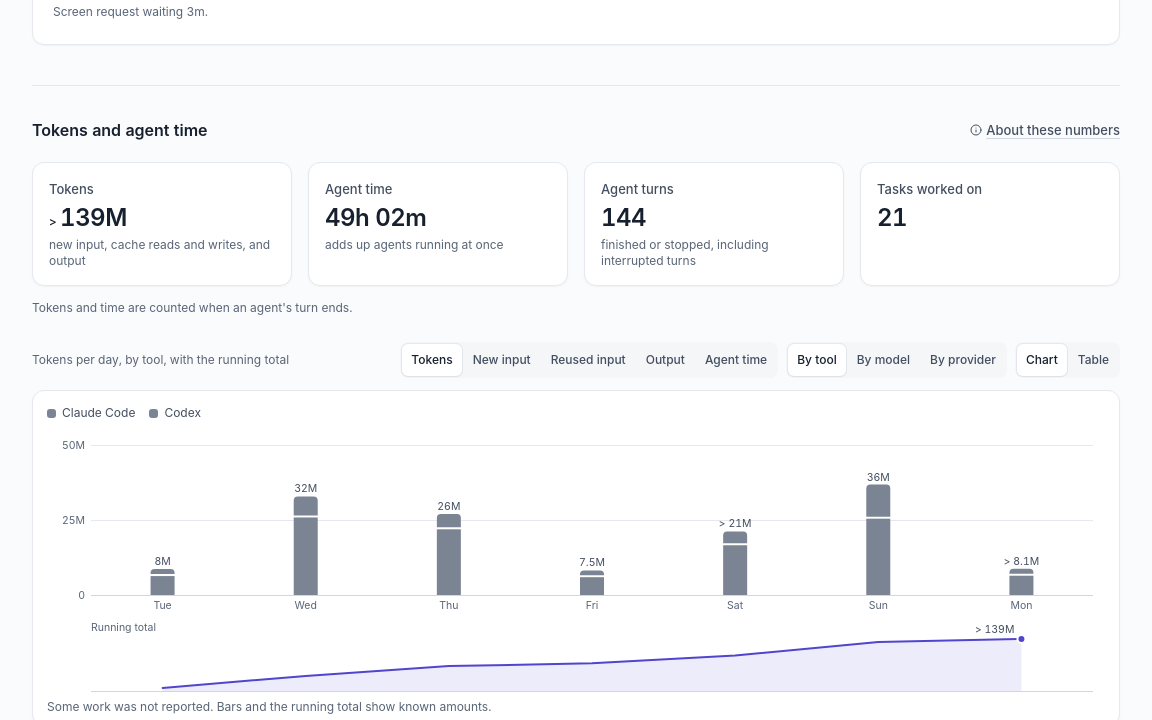
Test: the Analytics charts › switches the split to models and providers, and the measure to a part of the tokens or agent time
(page scrolled)
What coordinates should you click on to do the following:
click the tab "By model"
I would click on:
 (883, 360)
Its box is [848,344,919,376].
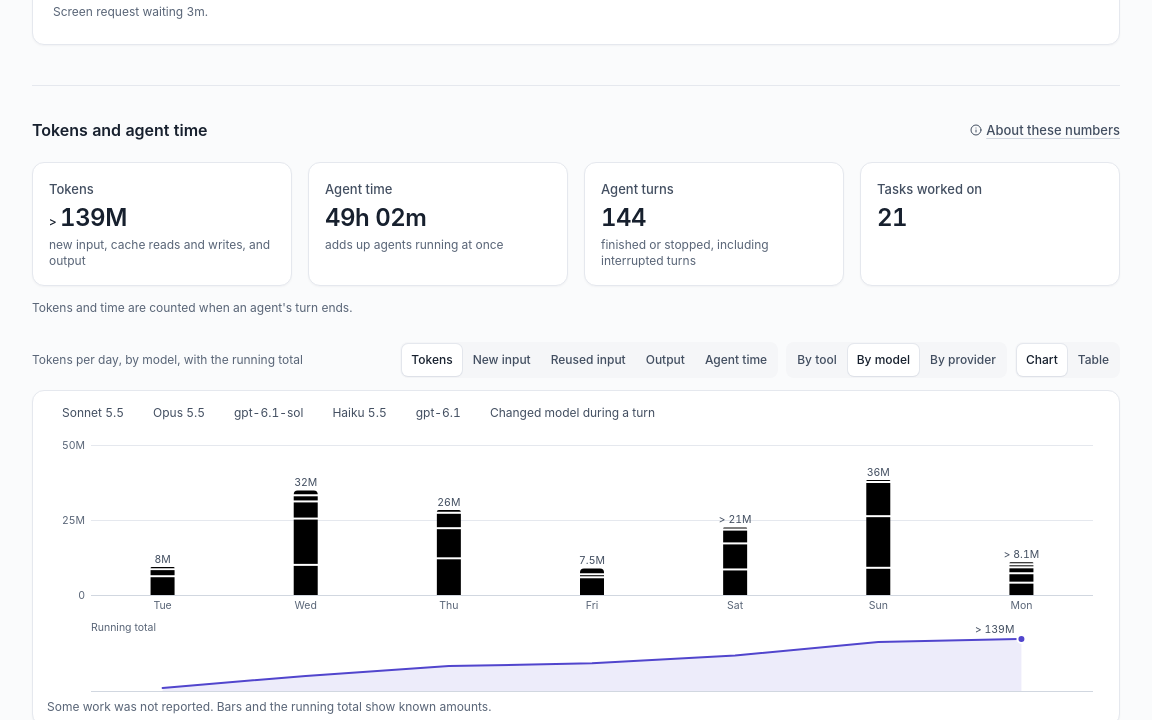
expect the element showing "Opus 5.5" is shown: met, box [153,405,205,420]
expect the element with class "legend" is shown: met, box [62,405,655,420]
What coordinates should you click on to do the following:
click the tab "By provider"
I would click on:
 (963, 360)
Its box is [921,344,1005,376].
(page scrolled)
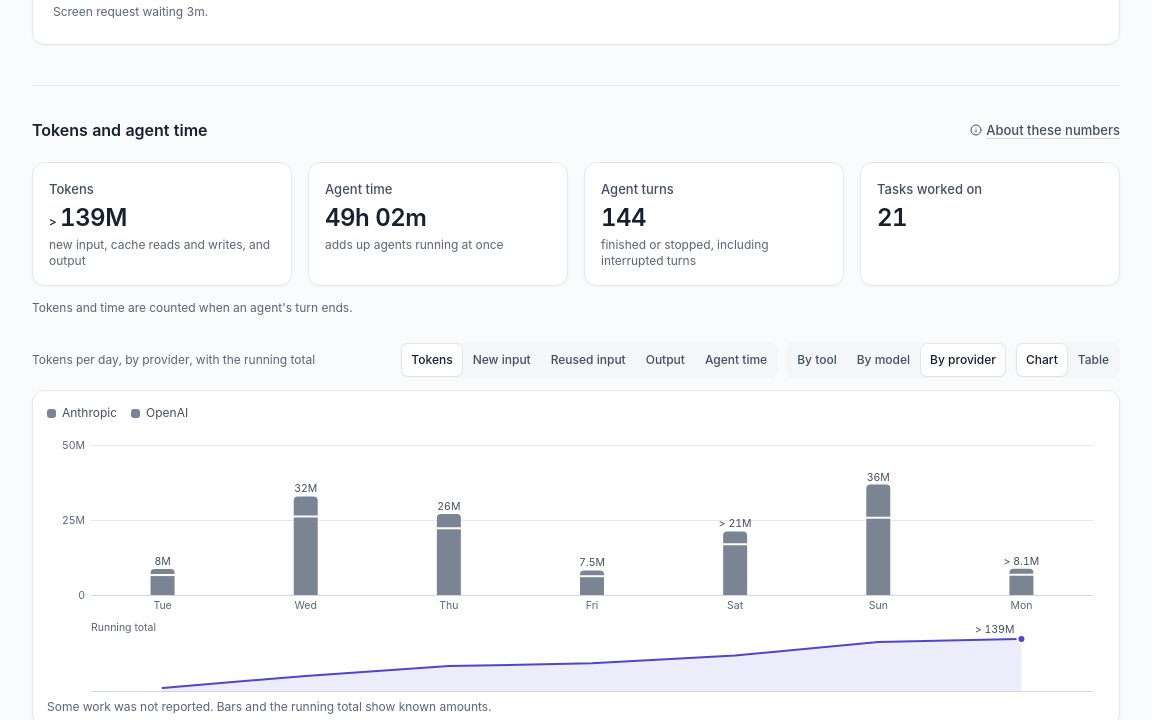
expect the element with class "legend" is shown: met, box [47,405,188,420]
What coordinates should you click on to do the following:
click the tab "Reused input"
I would click on:
 (588, 360)
Its box is [542,344,635,376].
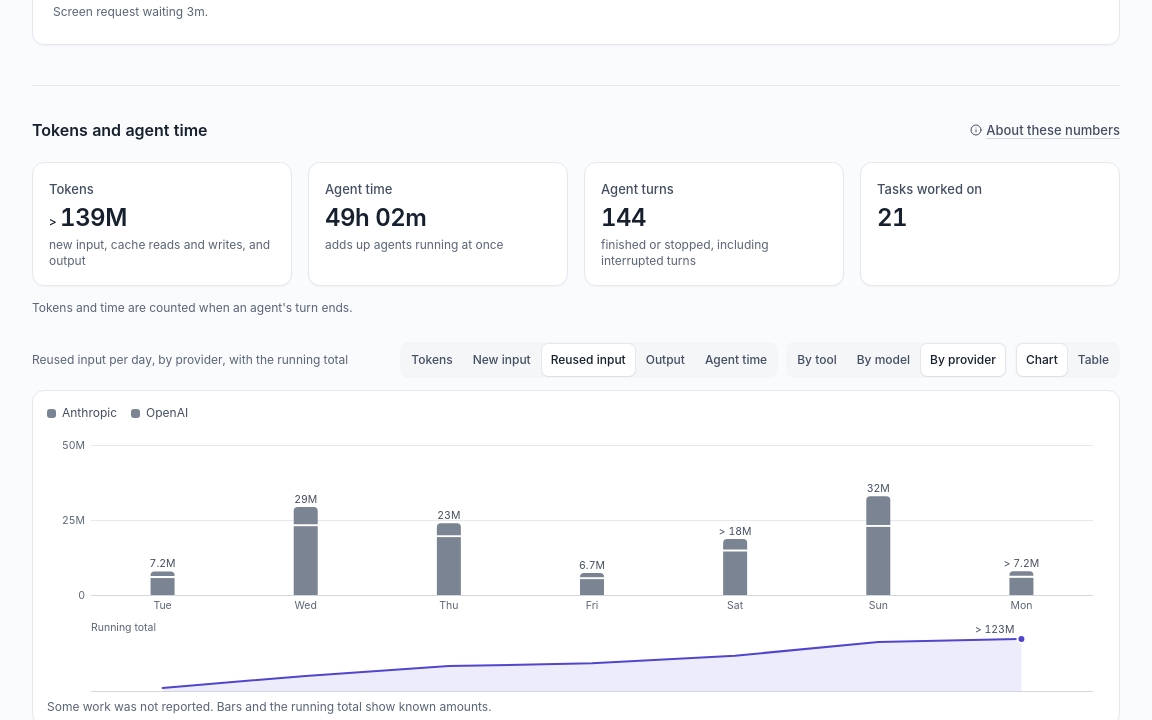
expect the element with class "tokens" shows "Reused input per day, by provider": met, box [32,342,1120,378]
What coordinates should you click on to do the following:
click the tab "Agent time"
I would click on:
 (736, 360)
Its box is [696,344,776,376].
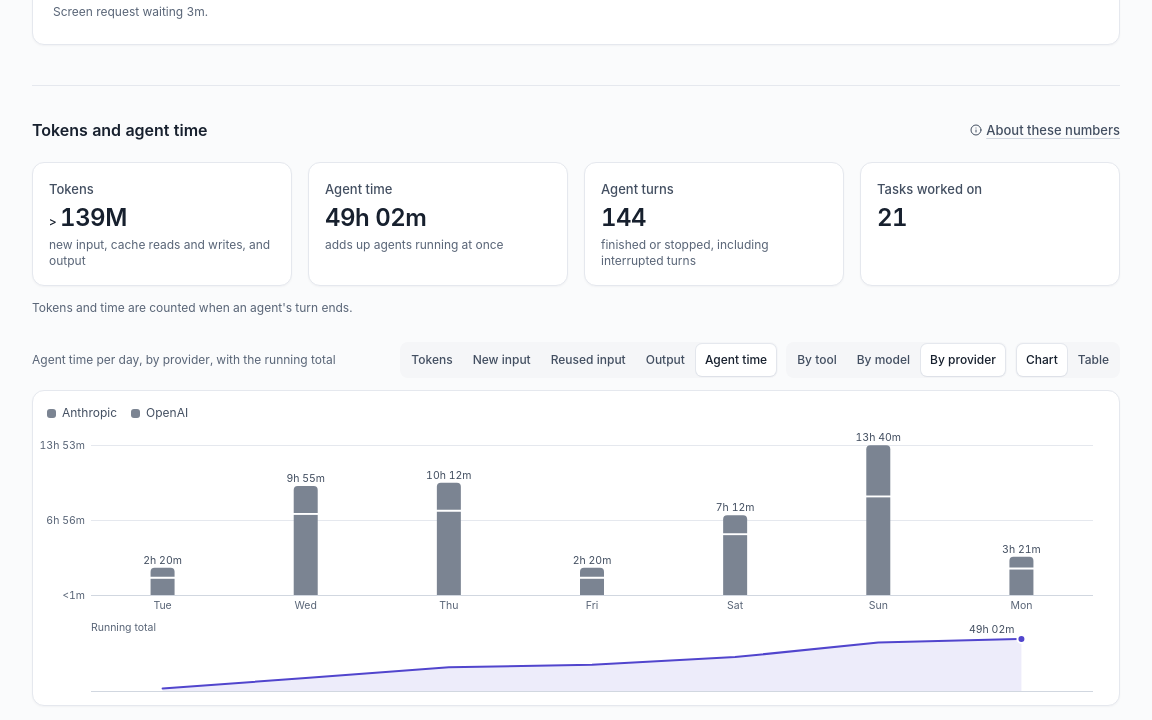
expect the element with class "tokens" shows "Agent time per day, by provider": met, box [32,342,1120,378]
